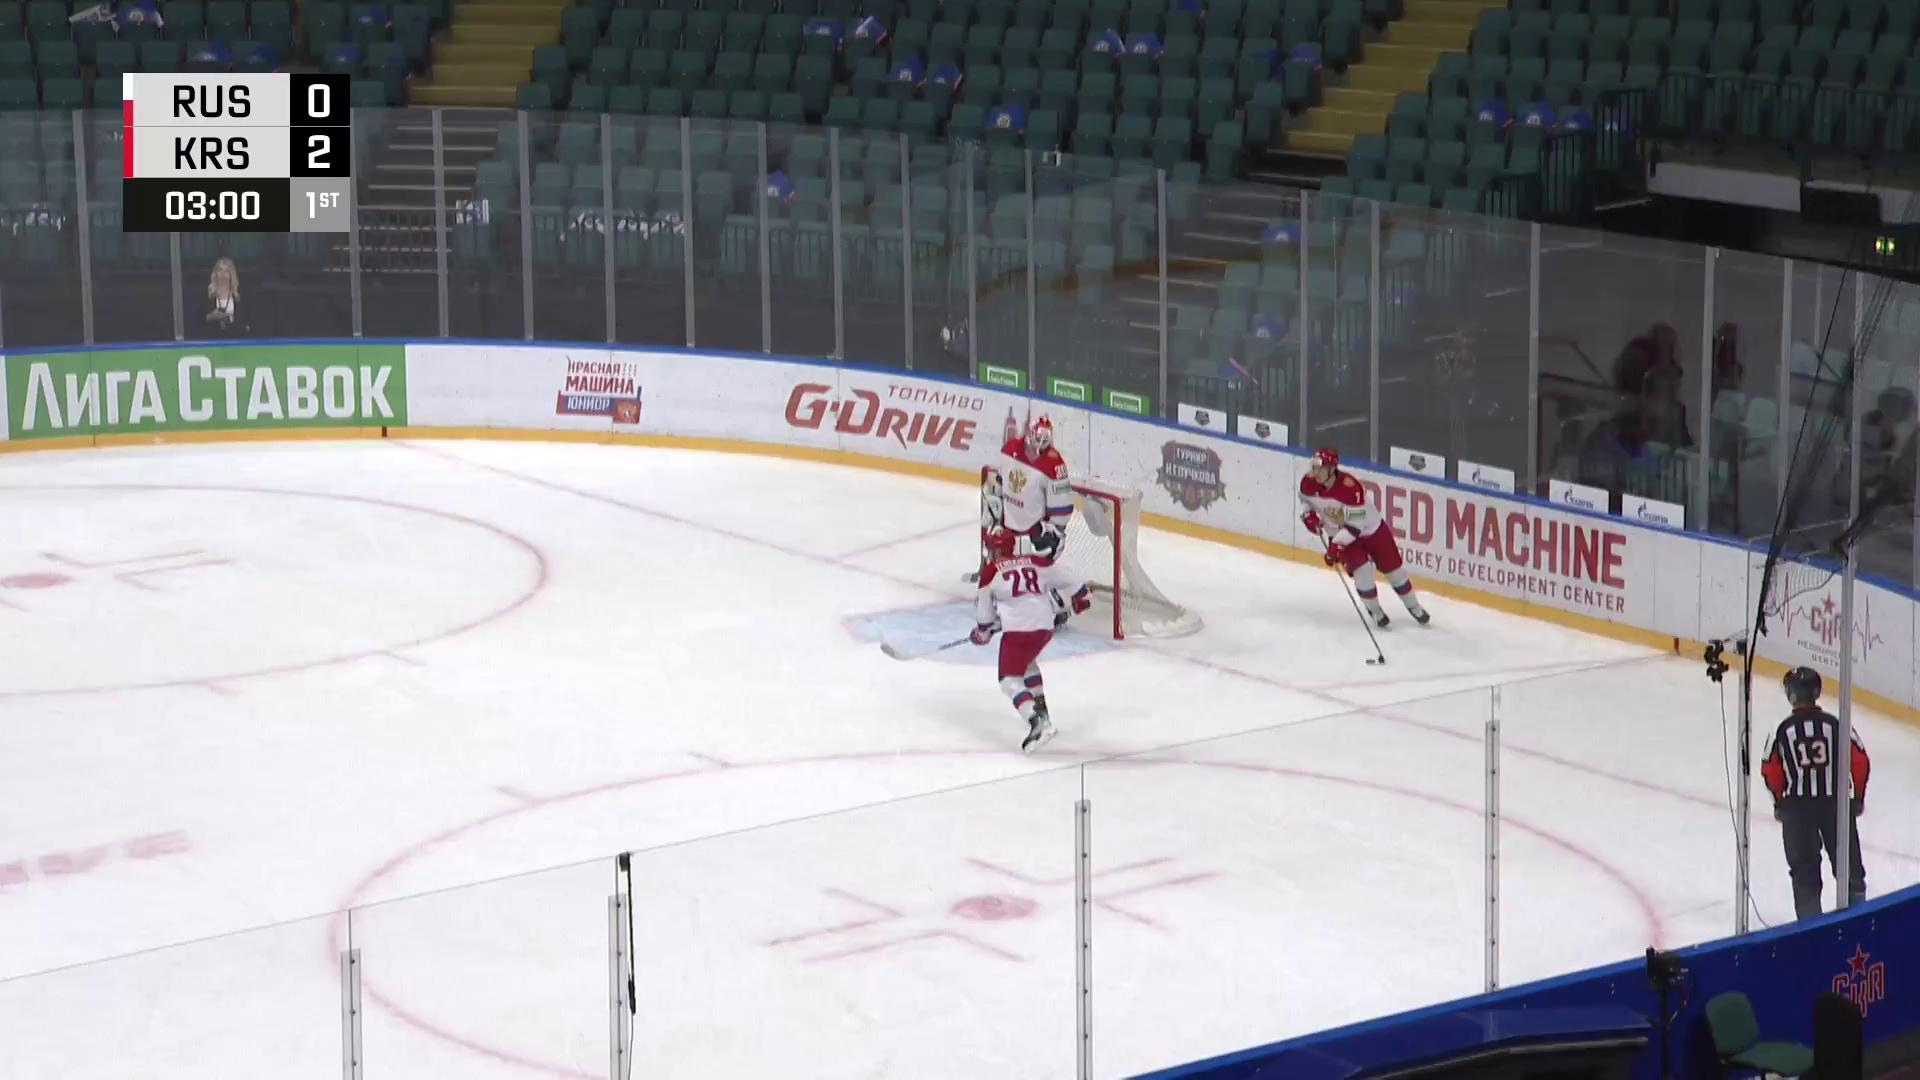ball: (1361, 655, 1378, 669)
